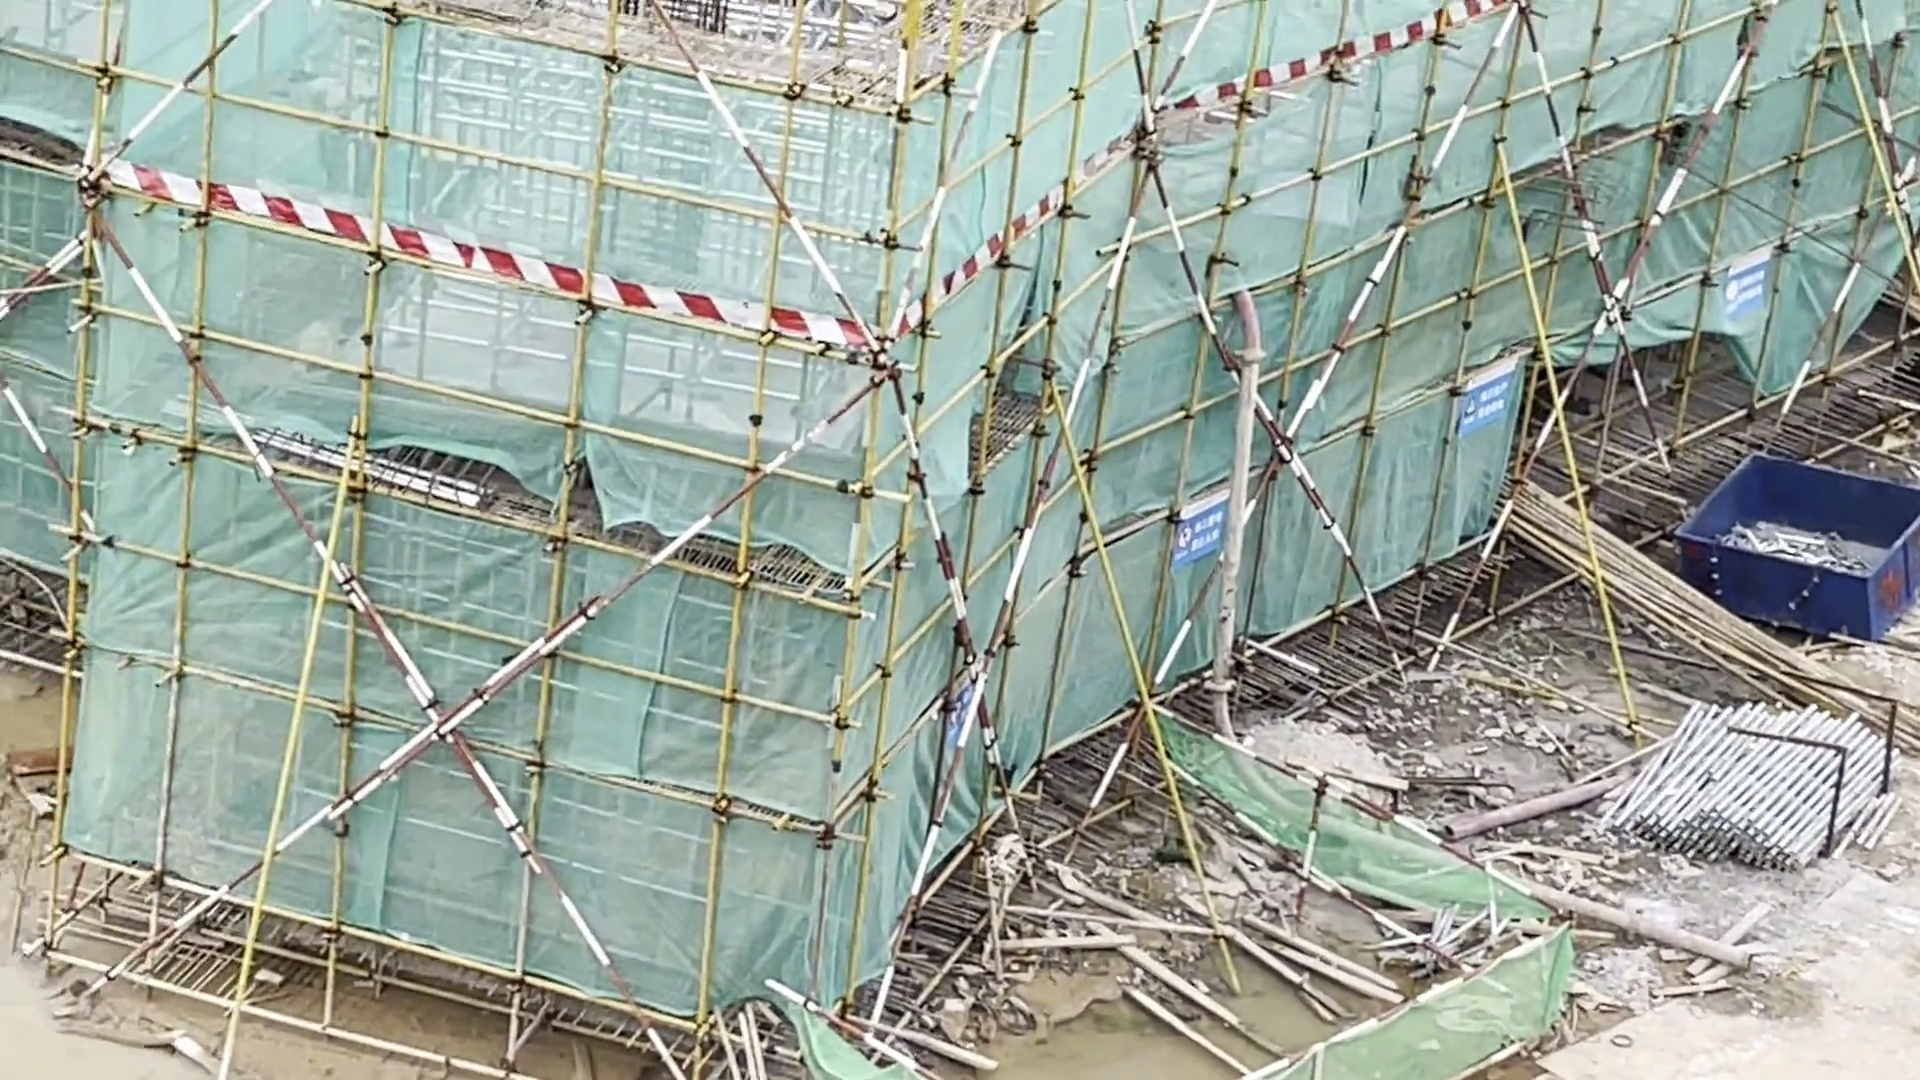hopper: (1665, 446, 1920, 650)
scaffold: (1619, 703, 1899, 873)
slogan: (1456, 361, 1518, 439), (1174, 488, 1230, 566), (1724, 247, 1770, 316)
